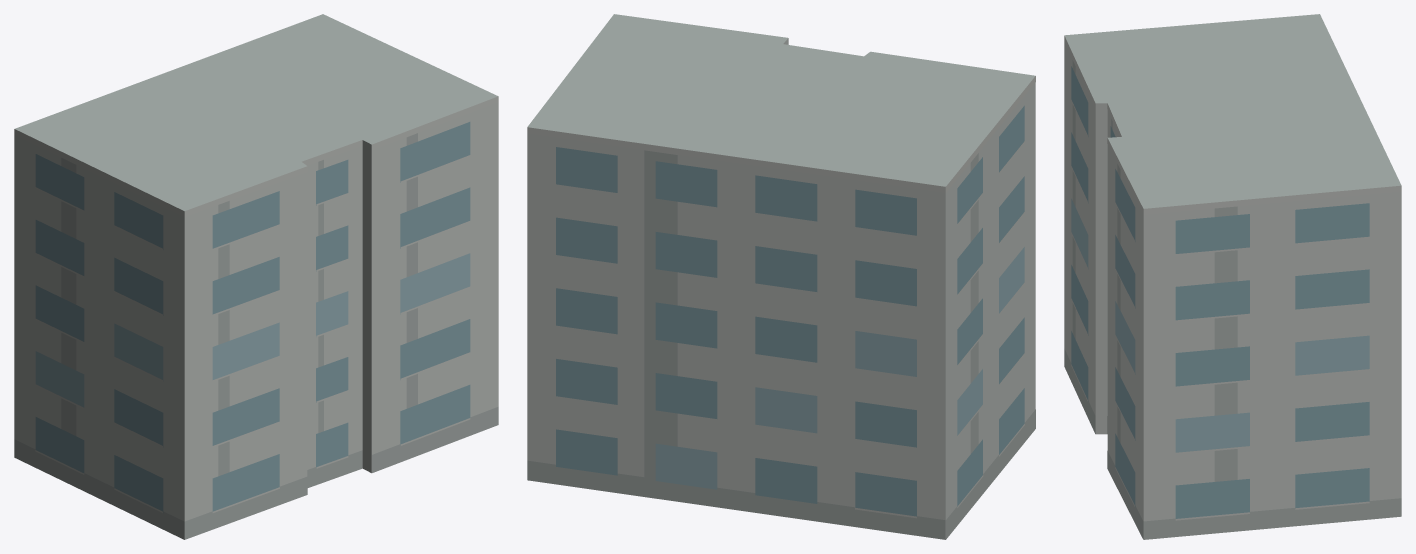
File: survey-upis-32568255.glb
3 renders of one model, left to right at view 1: azimuth 30°, elevation 25°; view 2: azimuth 150°, elevation 25°; view 3: azimuth 270°, elevation 25°, orthographic. The views are drawn at different scales.
Parts seen in each view (by area): view 1: survey-upis-32568255.tmp; view 2: survey-upis-32568255.tmp; view 3: survey-upis-32568255.tmp.
Boxes of the visible parts, x1,y1,x2,y2 form: survey-upis-32568255.tmp: [14, 14, 498, 539]; survey-upis-32568255.tmp: [527, 14, 1035, 539]; survey-upis-32568255.tmp: [1064, 14, 1401, 539].
Bounding box in the file's own units: 16.8 × 13.3 × 12.29.
